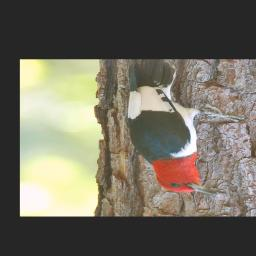Woodpecker: (125, 61, 247, 195)
